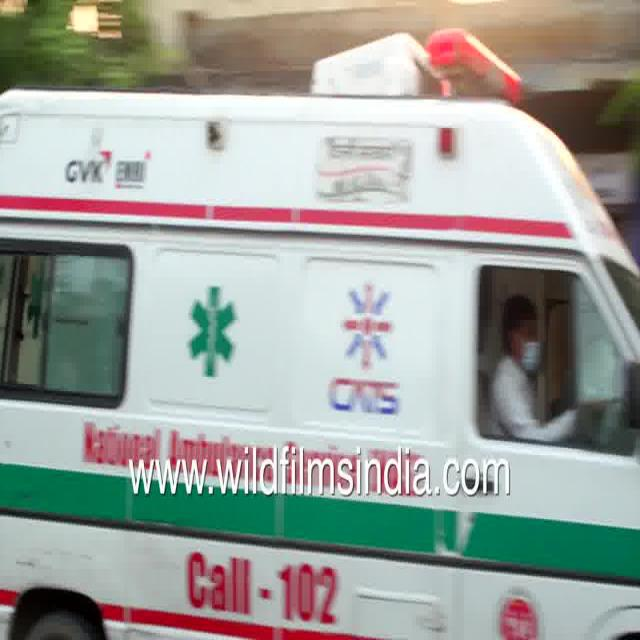ambulance: (6, 21, 623, 444)
